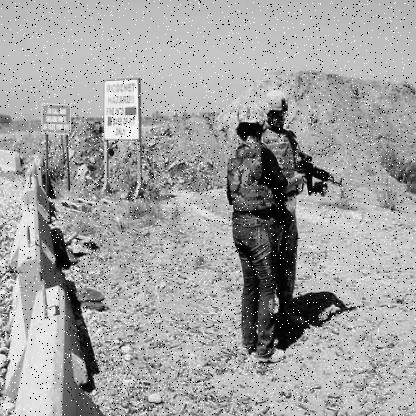rifle: (290, 149, 353, 204)
